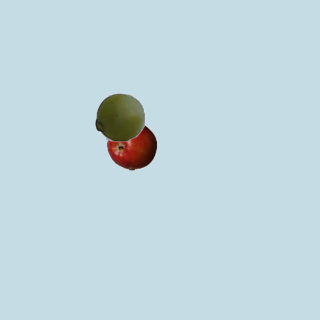Apple Braeburn: (106, 120, 156, 170)
Grape White 4: (94, 91, 144, 141)
